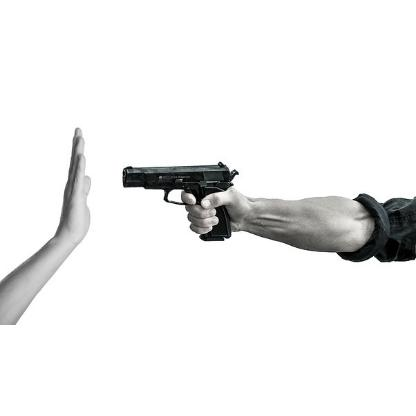gun: (118, 162, 236, 242)
